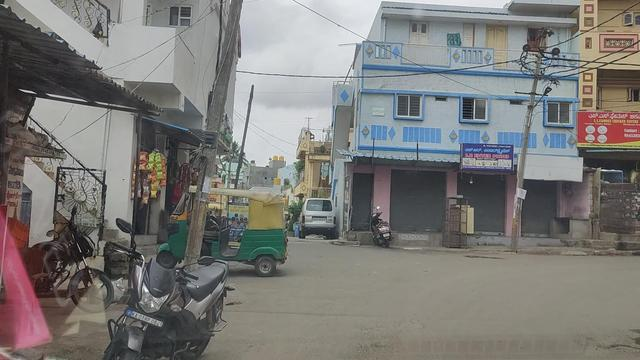RoadDamages: (579, 319, 640, 360)
